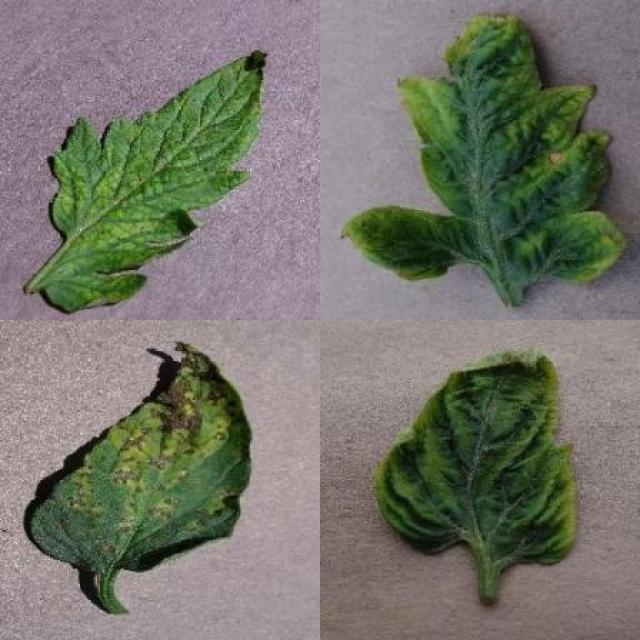Mosaic Virus: (42, 48, 271, 315)
Septoria: (32, 339, 254, 574)
Yellow Leaf Curl Virus: (341, 13, 626, 286), (375, 346, 578, 564)
